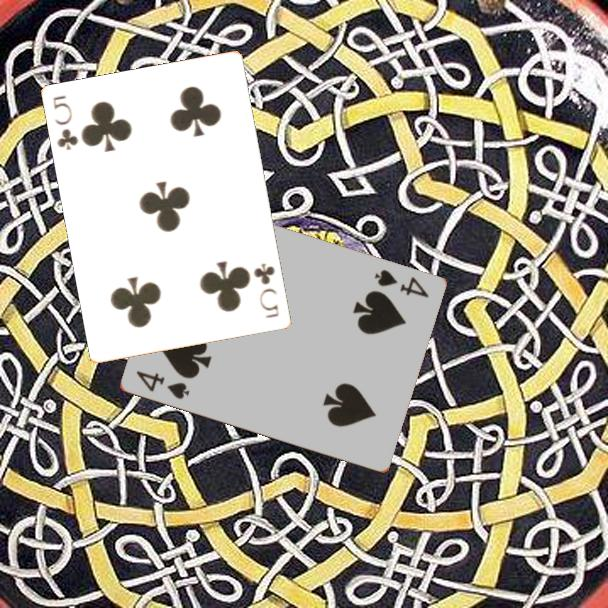c05: (250, 260, 282, 321), (50, 92, 82, 153)
s04: (370, 266, 431, 301), (132, 368, 192, 402)
